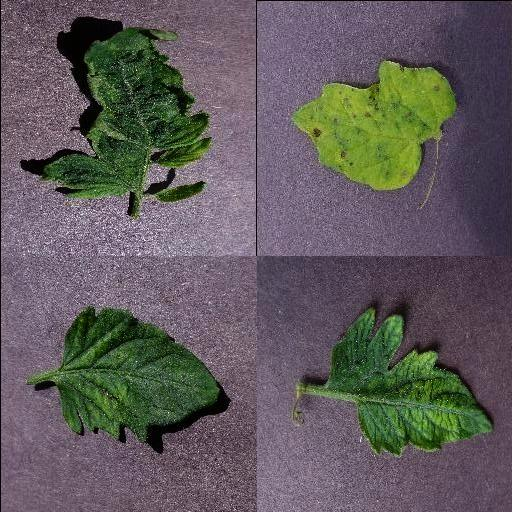Mosaic Virus: (35, 26, 213, 202), (324, 305, 496, 459), (55, 305, 221, 443)
Septoria: (290, 59, 456, 189)
